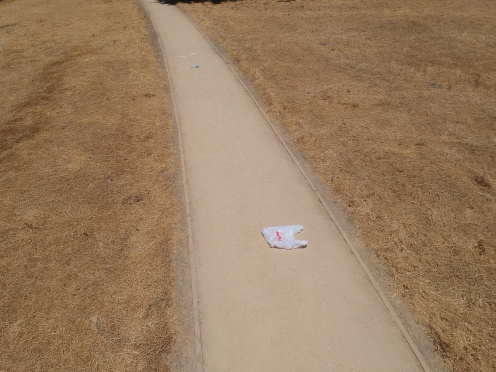bottle: (188, 61, 203, 69)
plastic bag: (256, 218, 311, 253)
